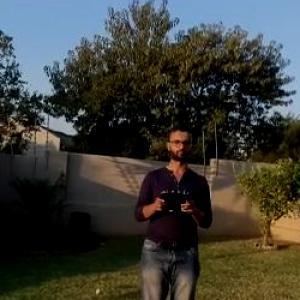follow: (125, 116, 217, 299)
